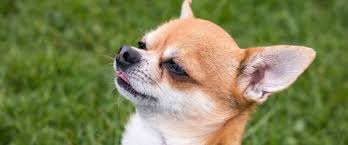chihuahua: (95, 1, 320, 145)
